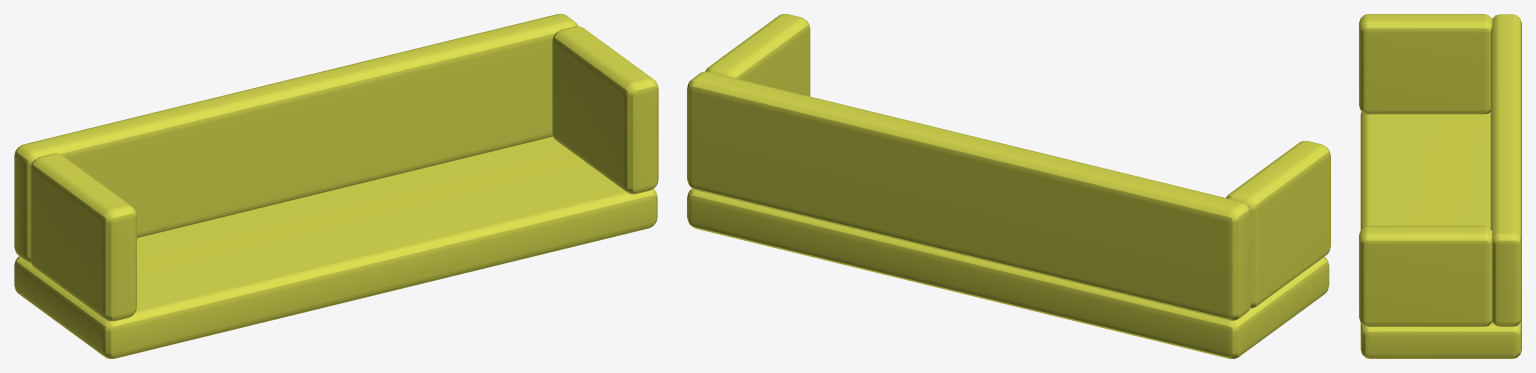
The model's file is sofa_set.fbx.
The picture shows the model from 3 angles, left to right: view 1: azimuth 30°, elevation 25°; view 2: azimuth 150°, elevation 25°; view 3: azimuth 270°, elevation 25°; orthographic projection. The views are drawn at different scales.
Parts seen in each view (by area): view 1: sofa_lower, sofa_back, sofa_side2, sofa_side1; view 2: sofa_back, sofa_lower, sofa_side2, sofa_side1; view 3: sofa_lower, sofa_side1, sofa_side2, sofa_back.
Part boxes in pixels (<box>): sofa_lower: <box>14,137,657,358</box>; sofa_back: <box>14,14,578,263</box>; sofa_side2: <box>30,153,136,321</box>; sofa_side1: <box>552,26,658,194</box>; sofa_back: <box>687,71,1251,320</box>; sofa_lower: <box>687,188,1329,358</box>; sofa_side2: <box>1226,141,1330,308</box>; sofa_side1: <box>705,14,810,96</box>; sofa_lower: <box>1360,112,1521,358</box>; sofa_side1: <box>1359,226,1492,326</box>; sofa_side2: <box>1359,14,1492,114</box>; sofa_back: <box>1490,14,1521,326</box>.
Size of the model in its own units: 284 by 73.6 by 86.74.
